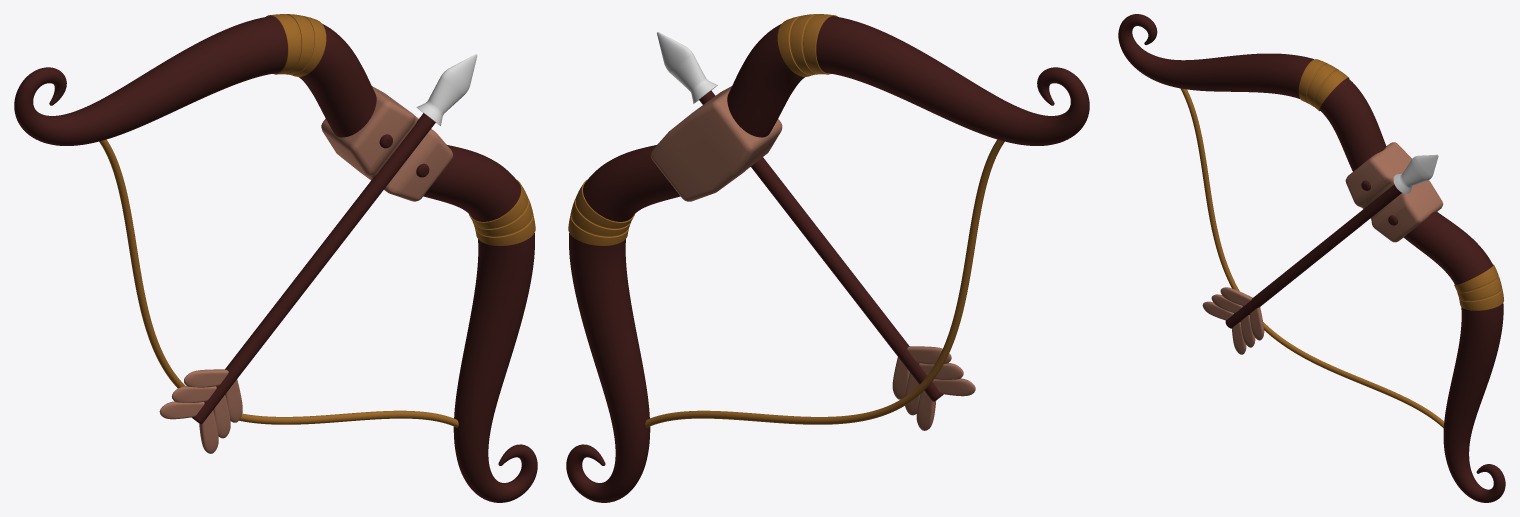
The model's file is Bow and Arrow.fbx.
The picture shows the model from 3 angles, left to right: view 1: azimuth 30°, elevation 25°; view 2: azimuth 150°, elevation 25°; view 3: azimuth 330°, elevation 25°; orthographic projection. The views are drawn at different scales.
Visible parts, largest first — view 1: NurbsPath.003, Cube, Cylinder.003, NurbsPath.005, NurbsPath.004, Plane.012, Cylinder.004, Plane.013; view 2: NurbsPath.003, Cube, Cylinder.003, NurbsPath.004, NurbsPath.005, Cylinder.004, Plane.012, Plane.013; view 3: NurbsPath.003, Cube, NurbsPath.005, NurbsPath.004, Cylinder.003, Cylinder.004, Plane.012, Plane.013.
Part boxes in pixels (x1,y1,x2,y2): NurbsPath.003: (14, 16, 537, 502); Cube: (321, 86, 452, 201); Cylinder.003: (191, 113, 435, 424); NurbsPath.005: (266, 14, 535, 245); NurbsPath.004: (99, 139, 458, 427); Plane.012: (159, 369, 228, 419); Cylinder.004: (416, 54, 477, 125); Plane.013: (199, 379, 242, 453); NurbsPath.003: (566, 16, 1089, 502); Cube: (650, 86, 782, 201); Cylinder.003: (699, 90, 943, 401); NurbsPath.004: (645, 139, 1004, 427); NurbsPath.005: (568, 14, 837, 245); Cylinder.004: (657, 32, 717, 103); Plane.012: (907, 346, 975, 396); Plane.013: (892, 357, 935, 430); NurbsPath.003: (1118, 14, 1505, 502); Cube: (1345, 142, 1443, 242); NurbsPath.005: (1298, 59, 1503, 310); NurbsPath.004: (1180, 88, 1444, 427); Cylinder.003: (1225, 184, 1401, 328); Cylinder.004: (1393, 154, 1438, 193); Plane.012: (1202, 287, 1252, 320); Plane.013: (1232, 307, 1264, 354).
Size of the model in its own units: 132 by 132 by 17.7.
